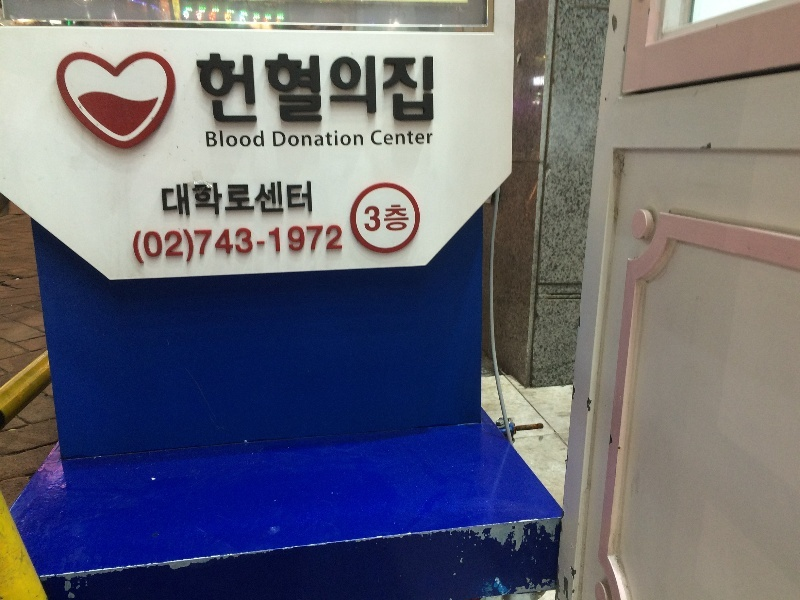text: (209, 54, 224, 123), (225, 54, 240, 123), (241, 54, 256, 123), (257, 54, 272, 123), (273, 54, 288, 123), (289, 54, 304, 123), (305, 54, 320, 123), (321, 54, 336, 123), (337, 54, 352, 123), (353, 54, 368, 123), (369, 54, 384, 123), (385, 54, 400, 123), (401, 54, 416, 123), (417, 54, 432, 123), (194, 54, 208, 123), (145, 225, 160, 266), (161, 225, 176, 266), (177, 225, 192, 266), (193, 225, 208, 266), (209, 225, 224, 266), (225, 225, 240, 266), (241, 225, 256, 266), (257, 225, 272, 266), (273, 225, 288, 266), (289, 225, 304, 266), (305, 225, 320, 266), (321, 225, 336, 266), (161, 180, 176, 216), (177, 180, 192, 216), (193, 180, 208, 216), (209, 180, 224, 216), (225, 180, 240, 216), (241, 180, 256, 216), (257, 180, 272, 216), (273, 180, 288, 216), (289, 180, 304, 216), (131, 225, 144, 266), (369, 203, 384, 234), (385, 203, 400, 234), (305, 180, 313, 216), (401, 203, 410, 234), (209, 130, 224, 148), (225, 130, 240, 148), (241, 130, 256, 148), (273, 130, 288, 147), (289, 130, 304, 147), (305, 130, 320, 147), (321, 130, 336, 147), (337, 130, 352, 147), (337, 225, 343, 266), (417, 130, 433, 145), (385, 130, 400, 145), (401, 130, 416, 145), (371, 130, 384, 145), (353, 130, 364, 147), (363, 203, 368, 234), (433, 54, 435, 123), (257, 130, 264, 148), (206, 130, 208, 148)
